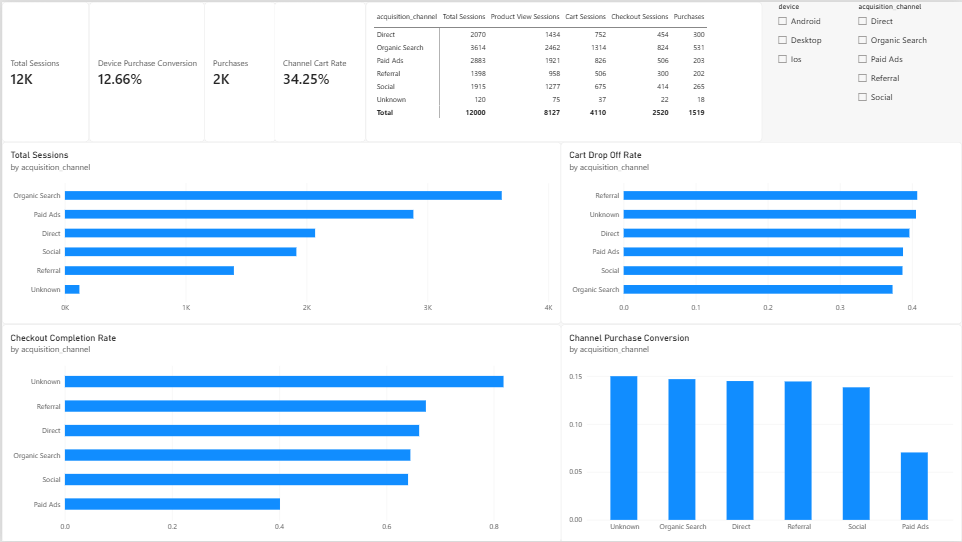

What the dashboard file says about the page in this screenshot:
{"tool":"powerbi","page":{"name":"Acquisition Quality","canvas":[1920,1080],"ordinal":2},"visuals":[{"type":"cardVisual","fields":{"Data":["SessionFunnel.Total Sessions"]},"box":[0,0,174,280],"z":0},{"type":"cardVisual","fields":{"Data":["SessionFunnel.Device Purchase Conversion"]},"box":[174,0,230,280],"z":1000},{"type":"cardVisual","fields":{"Data":["SessionFunnel.Purchases"]},"box":[404,0,142,280],"z":2000},{"type":"cardVisual","fields":{"Data":["SessionFunnel.Channel Cart Rate"]},"box":[546,0,182,280],"z":3000},{"type":"barChart","fields":{"Category":["SessionFunnel.acquisition_channel"],"Y":["SessionFunnel.Total Sessions"]},"box":[0,280,1118,364],"z":4000},{"type":"columnChart","fields":{"Category":["SessionFunnel.acquisition_channel"],"Y":["SessionFunnel.Channel Purchase Conversion"]},"box":[1118,644,802,436],"z":5000},{"type":"clusteredBarChart","fields":{"Category":["SessionFunnel.acquisition_channel"],"Y":["SessionFunnel.Cart Drop Off Rate"]},"box":[1118,280,802,364],"z":6000},{"type":"pivotTable","fields":{"Rows":["funnel_events_clean.acquisition_channel"],"Values":["SessionFunnel.Total Sessions","SessionFunnel.Product View Sessions","SessionFunnel.Cart Sessions","SessionFunnel.Checkout Sessions","SessionFunnel.Purchases"]},"box":[0,742.5,780,280],"z":7000},{"type":"barChart","fields":{"Category":["SessionFunnel.acquisition_channel"],"Y":["SessionFunnel.Checkout Completion Rate"]},"box":[0,644,1118,436],"z":8000},{"type":"slicer","fields":{"Values":["funnel_events_clean.device"]},"box":[1544,0,162,210],"z":9000},{"type":"slicer","fields":{"Values":["funnel_events_clean.acquisition_channel"]},"box":[1706,0,214,280],"z":10000},{"type":"pivotTable","fields":{"Rows":["SessionFunnel.acquisition_channel"],"Values":["SessionFunnel.Total Sessions","SessionFunnel.Product View Sessions","SessionFunnel.Cart Sessions","SessionFunnel.Checkout Sessions","SessionFunnel.Purchases"]},"box":[727.5,0,792.5,280],"z":10001}]}

Visuals, with their boxes in screenshot pixels (x1, y1, x2, y2), scaled from the page's 1920x1080 canvas onto the 962x542 screenshot:
cardVisual - SessionFunnel.Total Sessions: [left=0, top=0, right=87, bottom=141]
cardVisual - SessionFunnel.Device Purchase Conversion: [left=87, top=0, right=202, bottom=141]
cardVisual - SessionFunnel.Purchases: [left=202, top=0, right=274, bottom=141]
cardVisual - SessionFunnel.Channel Cart Rate: [left=274, top=0, right=365, bottom=141]
barChart - SessionFunnel.acquisition_channel x SessionFunnel.Total Sessions: [left=0, top=141, right=560, bottom=323]
columnChart - SessionFunnel.acquisition_channel x SessionFunnel.Channel Purchase Conversion: [left=560, top=323, right=961, bottom=541]
clusteredBarChart - SessionFunnel.acquisition_channel x SessionFunnel.Cart Drop Off Rate: [left=560, top=141, right=961, bottom=323]
pivotTable - funnel_events_clean.acquisition_channel x SessionFunnel.Total Sessions: [left=0, top=373, right=391, bottom=513]
barChart - SessionFunnel.acquisition_channel x SessionFunnel.Checkout Completion Rate: [left=0, top=323, right=560, bottom=541]
slicer - funnel_events_clean.device: [left=774, top=0, right=855, bottom=105]
slicer - funnel_events_clean.acquisition_channel: [left=855, top=0, right=961, bottom=141]
pivotTable - SessionFunnel.acquisition_channel x SessionFunnel.Total Sessions: [left=365, top=0, right=762, bottom=141]
